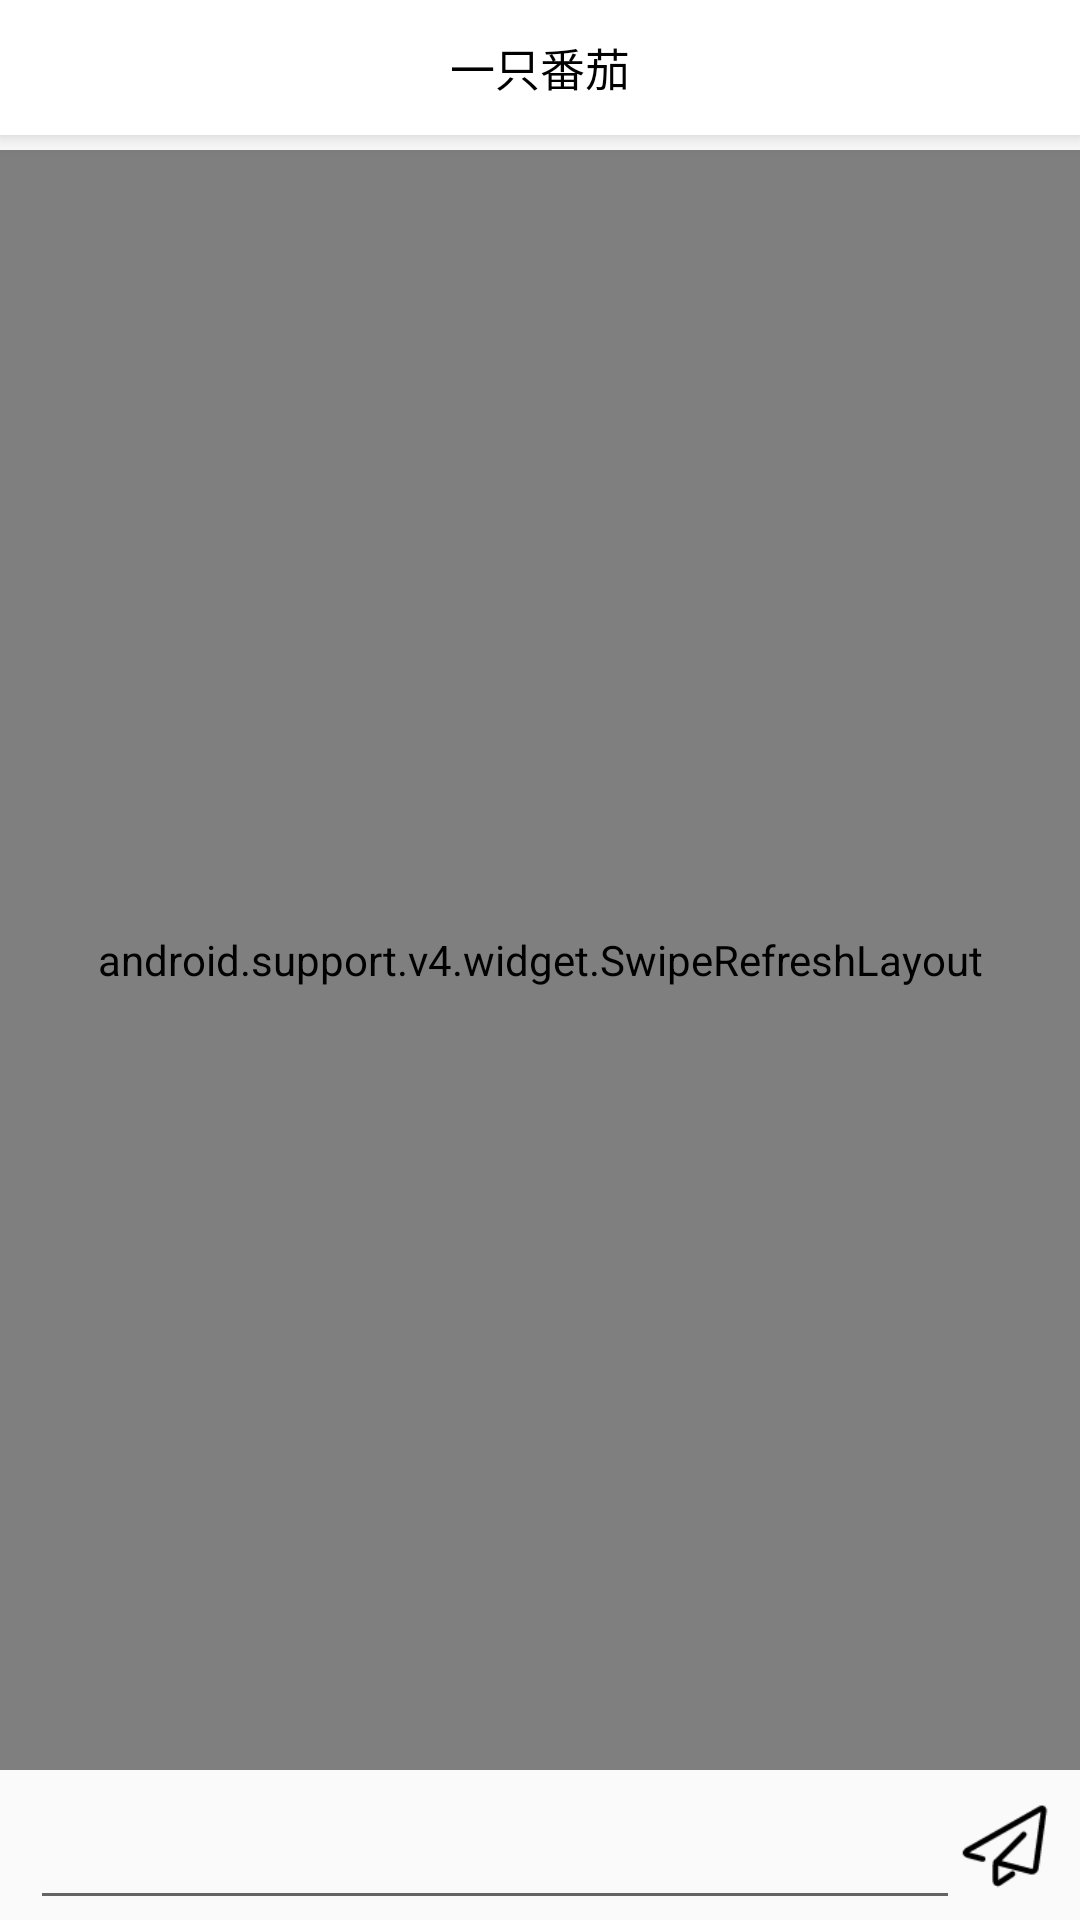

Icon click points for this 1080×1920 phone screenshot, format point (x, y):
chatsend: point (1005, 1846)
